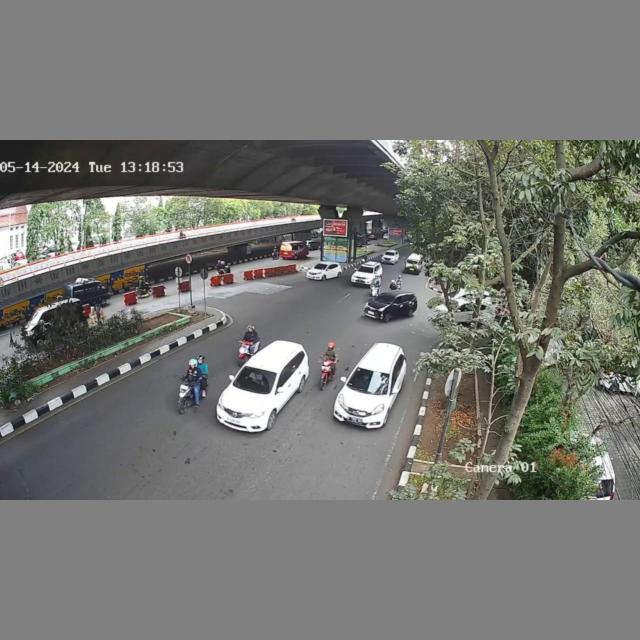windshield: (345, 368, 391, 394), (234, 367, 274, 393)
